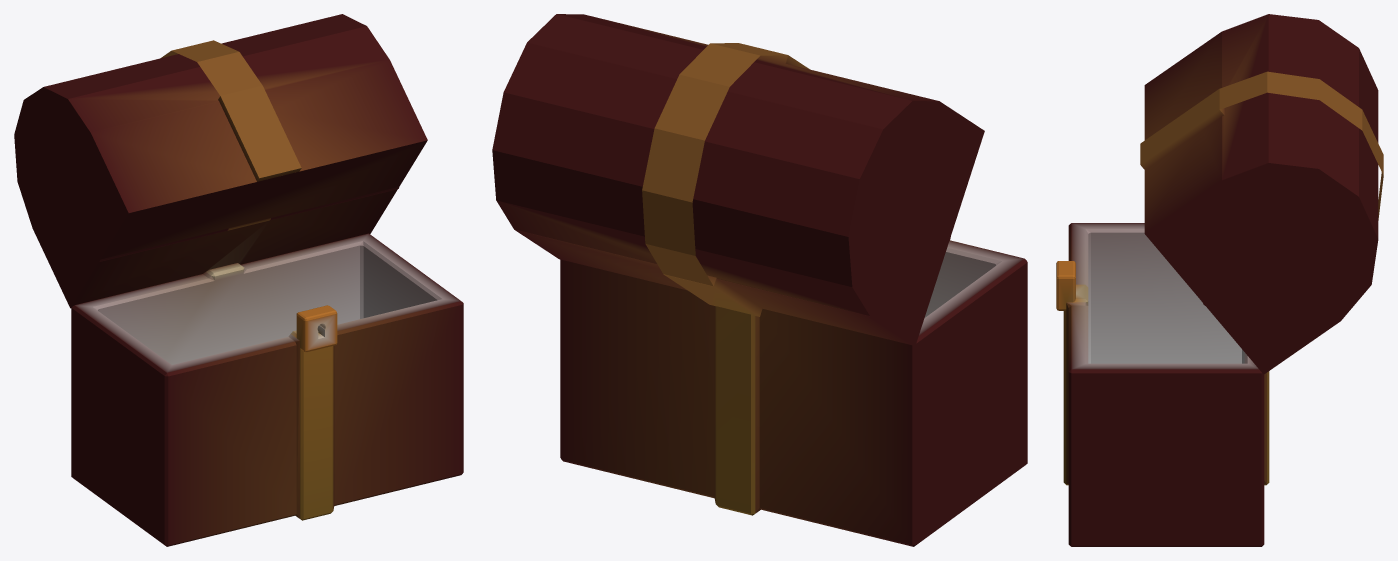
Rendered from TreasureChest.fbx.
3 views of the same model, side by side, from view 1: azimuth 30°, elevation 25°; view 2: azimuth 150°, elevation 25°; view 3: azimuth 270°, elevation 25° (orthographic). The views are drawn at different scales.
Parts seen in each view (by area): view 1: boolean7; view 2: boolean7; view 3: boolean7.
Part boxes in pixels (x1=…): boolean7: x1=14, y1=14, x2=463, y2=546; boolean7: x1=492, y1=14, x2=1027, y2=546; boolean7: x1=1056, y1=14, x2=1383, y2=546.
Size of the model in its own units: 1.8 by 2.23 by 1.67.
